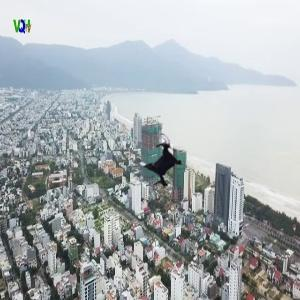drone: (131, 133, 192, 194)
